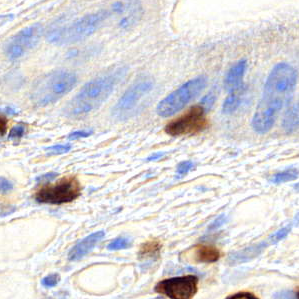Lymphocyte: (37, 179, 85, 204)
